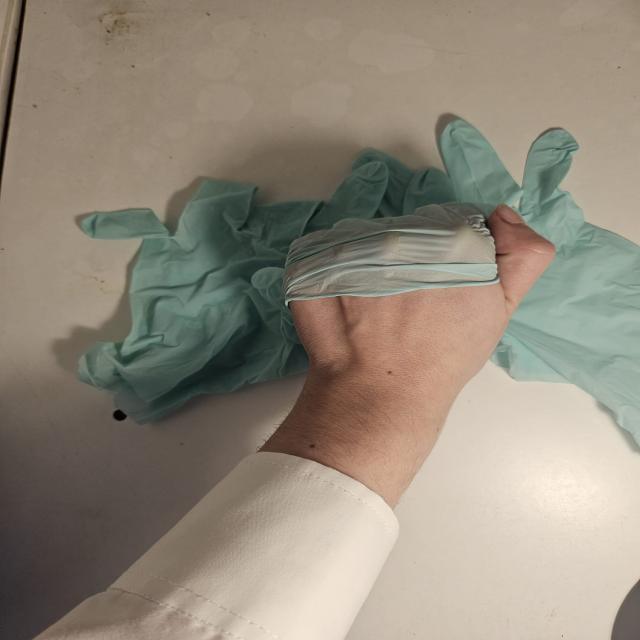glove_partial: (249, 201, 559, 376)
